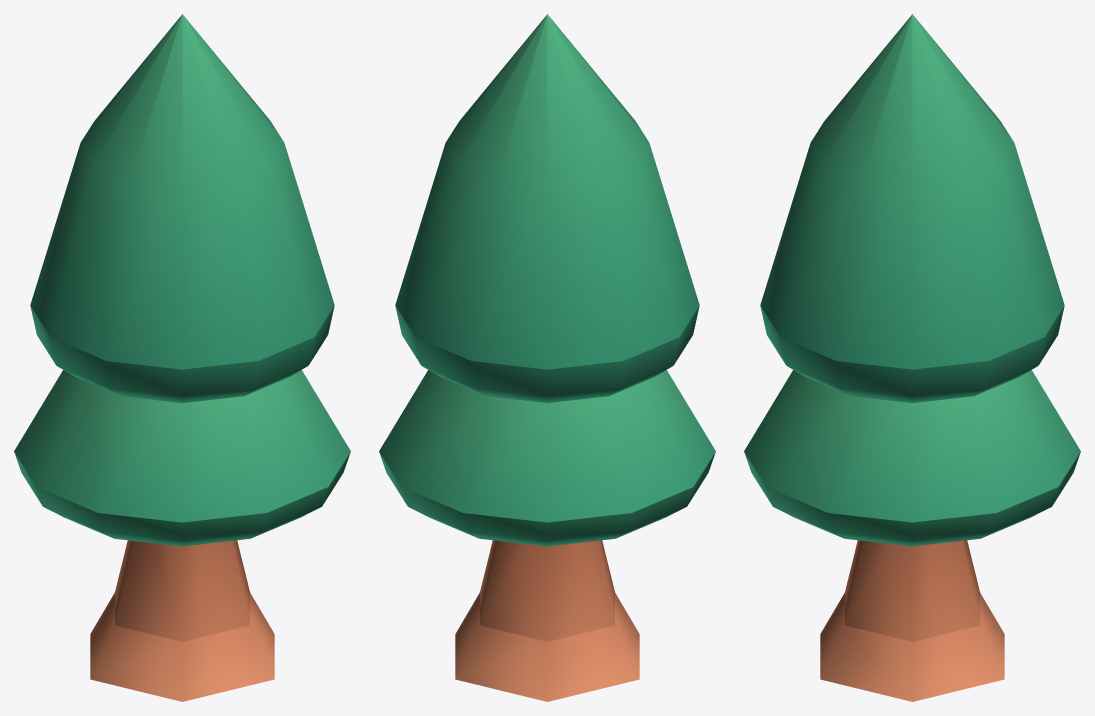
Rendered from tree-pine-small.fbx.
3 renders of one model, left to right at view 1: azimuth 30°, elevation 25°; view 2: azimuth 150°, elevation 25°; view 3: azimuth 270°, elevation 25°, orthographic.
Parts seen in each view (by area): view 1: tree-pine-small; view 2: tree-pine-small; view 3: tree-pine-small.
Part boxes in pixels (<box>): tree-pine-small: <box>14,14,350,701</box>; tree-pine-small: <box>379,14,715,701</box>; tree-pine-small: <box>744,14,1080,701</box>.
Size of the model in its own units: 66.39 by 140 by 66.39.
